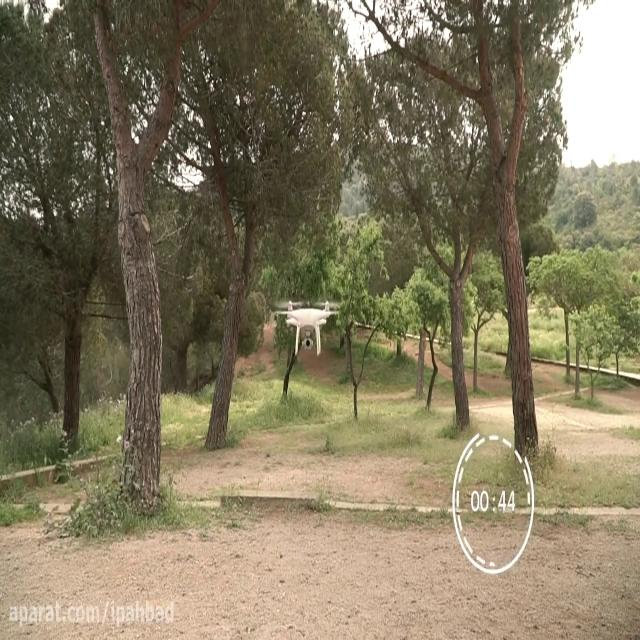drone: (272, 294, 342, 358)
